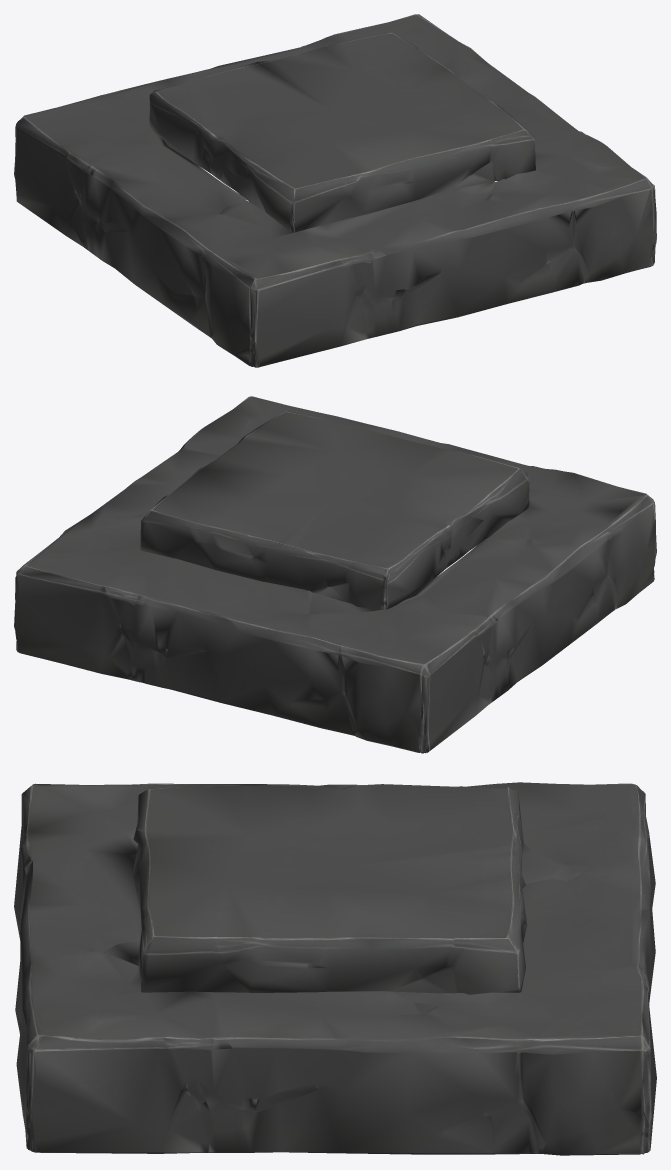
File: selected.glb
3 views of the same model, one above another, from view 1: azimuth 30°, elevation 25°; view 2: azimuth 150°, elevation 25°; view 3: azimuth 270°, elevation 25° (orthographic). The views are drawn at different scales.
Parts seen in each view (by area): view 1: tripo_node_abf40946-284a-4982-a0ae-e3a25691cd60; view 2: tripo_node_abf40946-284a-4982-a0ae-e3a25691cd60; view 3: tripo_node_abf40946-284a-4982-a0ae-e3a25691cd60.
Boxes of the visible parts, x1=… form: tripo_node_abf40946-284a-4982-a0ae-e3a25691cd60: x1=14, y1=14, x2=656, y2=367; tripo_node_abf40946-284a-4982-a0ae-e3a25691cd60: x1=14, y1=396, x2=656, y2=753; tripo_node_abf40946-284a-4982-a0ae-e3a25691cd60: x1=14, y1=782, x2=656, y2=1155.
Size of the model in its own units: 0.998 by 0.291 by 0.998.
1 material, 1 textured.
